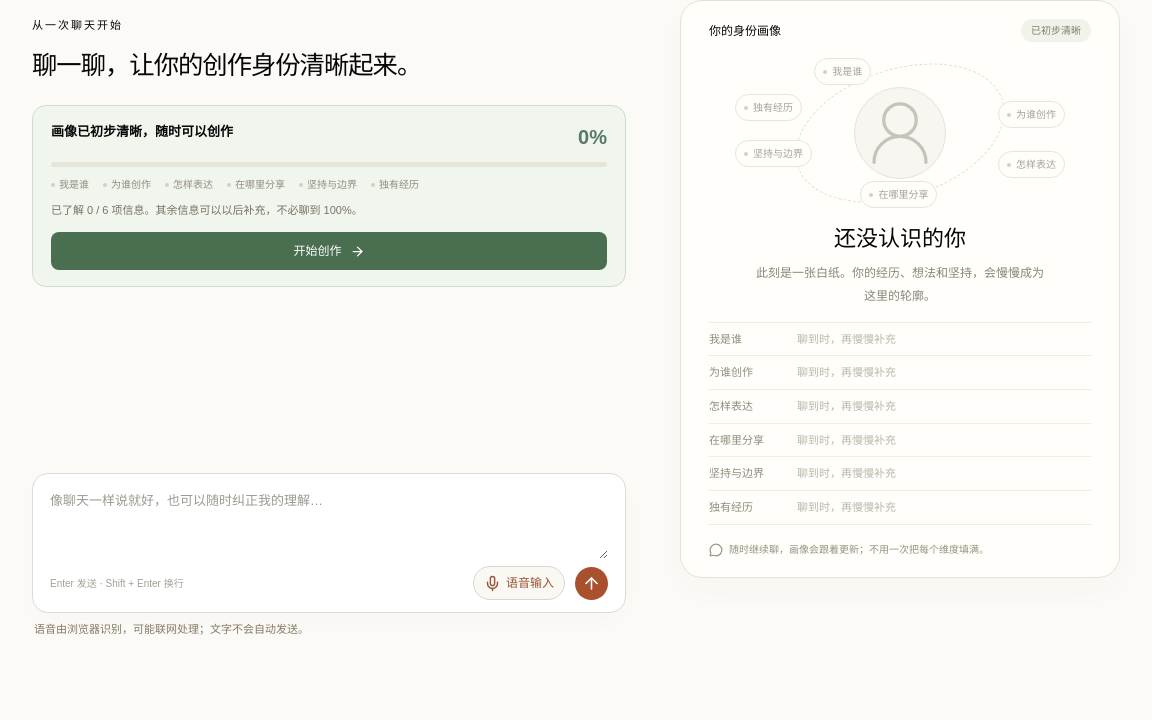
Test case: portrait voice input › recovers if the browser exposes the API but construction fails
Click the button with aria-label "开始语音输入" at (519, 583), box top-left (473, 566), bottom-right (565, 600)
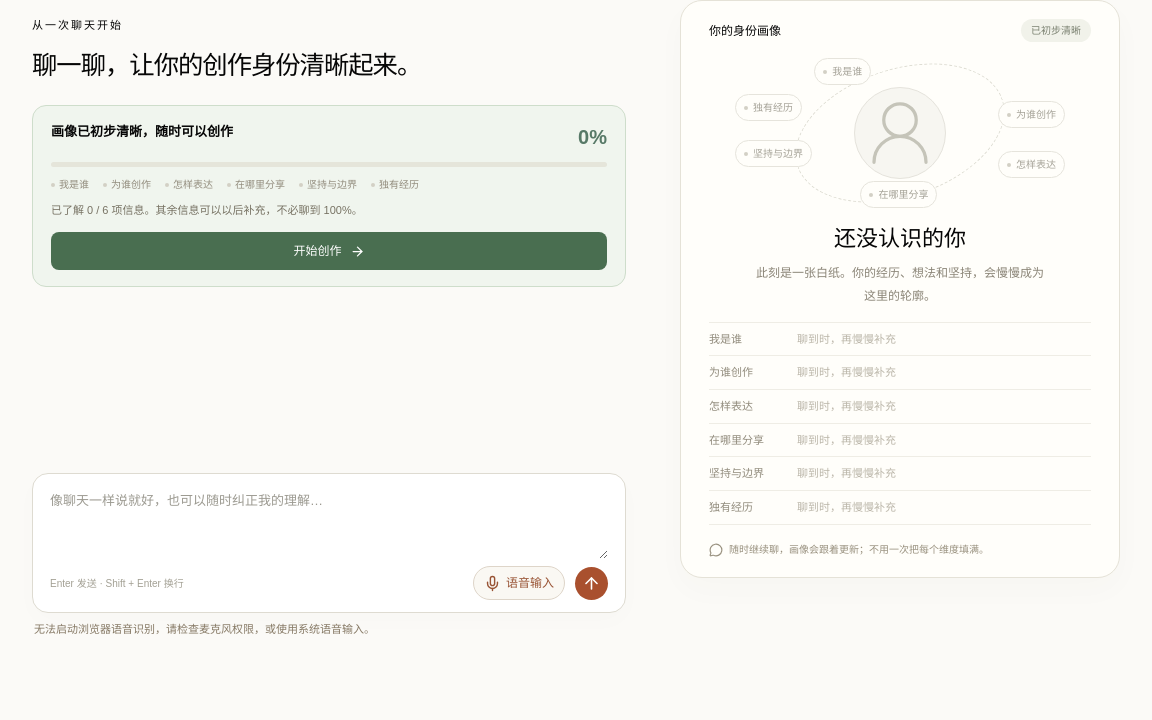
Check: the message shows "无法启动浏览器语音识别", box top-left (34, 623), bottom-right (375, 635)
